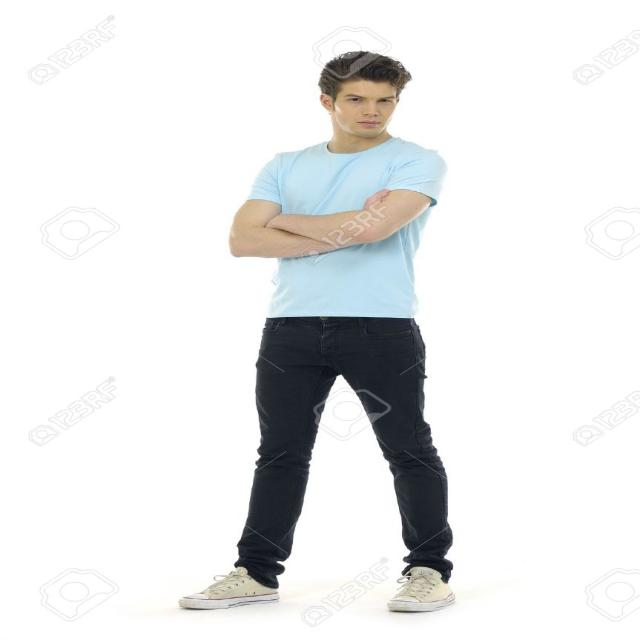adult: (171, 48, 464, 614)
